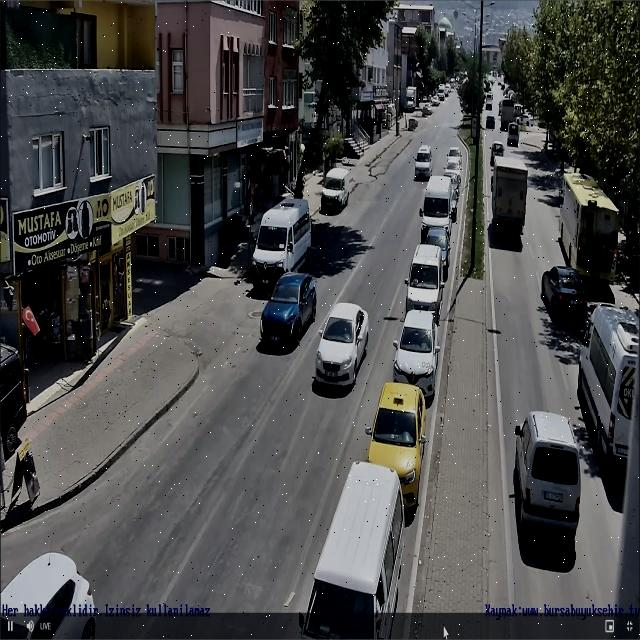car: (299, 460, 401, 640), (578, 304, 640, 461), (515, 406, 585, 534), (366, 379, 426, 511), (315, 299, 372, 397), (253, 196, 313, 286), (261, 268, 319, 354), (392, 307, 440, 402), (540, 262, 588, 324), (320, 167, 350, 212), (414, 144, 434, 181)
